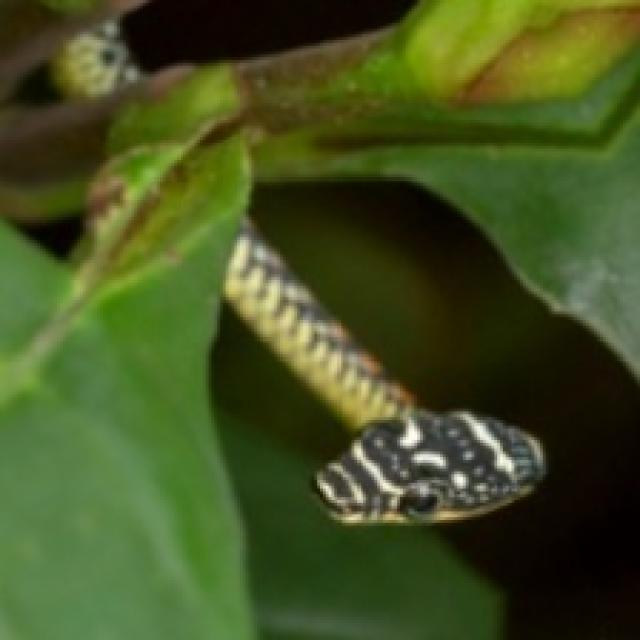paradise tree snake: (0, 11, 534, 517), (306, 323, 543, 520)
